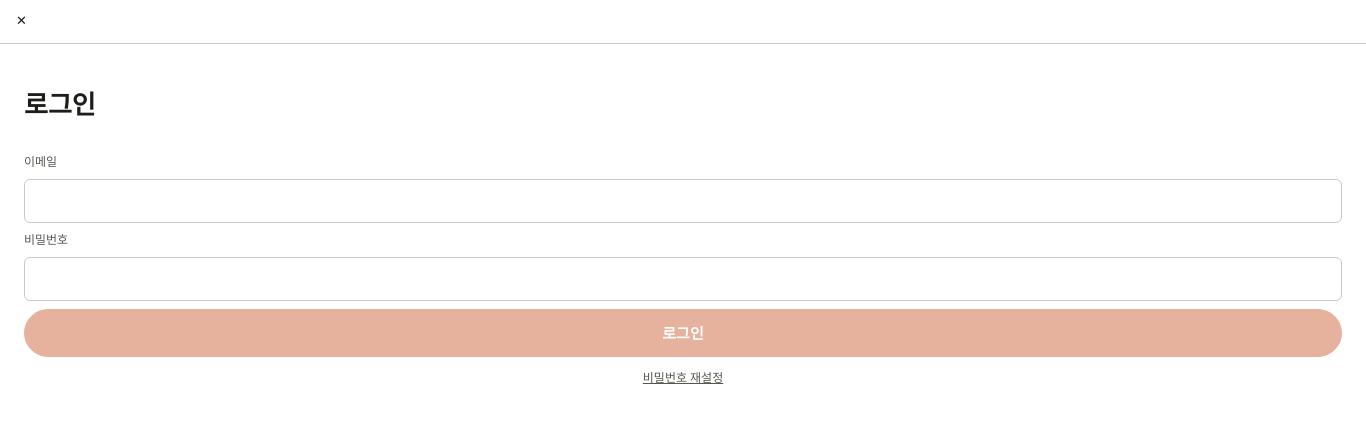
Scenario: LoginPage (A1) › 401 INVALID_CREDENTIALS면 명세 문구를 alert로 보이고 입력값·URL을 유지한다
Type "a@b.c" into the field labelled "이메일" at (683, 201), box x1=24 y1=179 x2=1342 y2=223
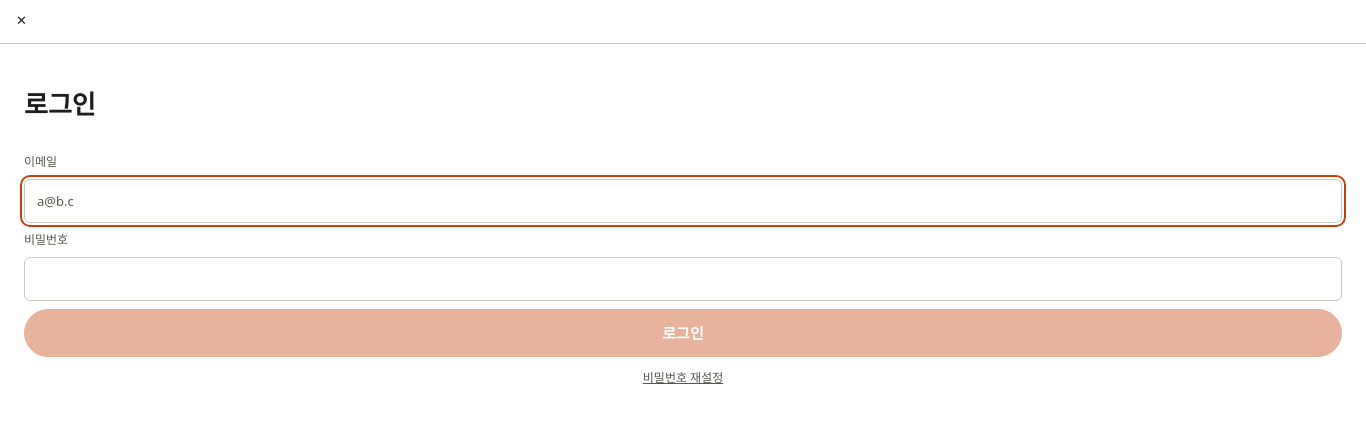
Type "pw" into the password field labelled "비밀번호" at (683, 279), box x1=24 y1=257 x2=1342 y2=301
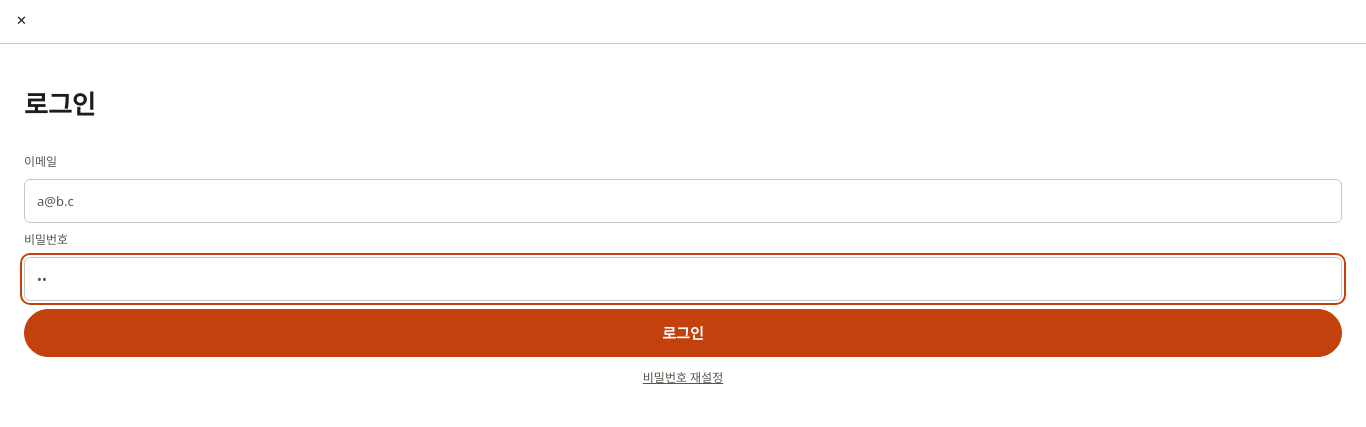
Click the button "로그인" at (683, 333), box x1=24 y1=309 x2=1342 y2=357
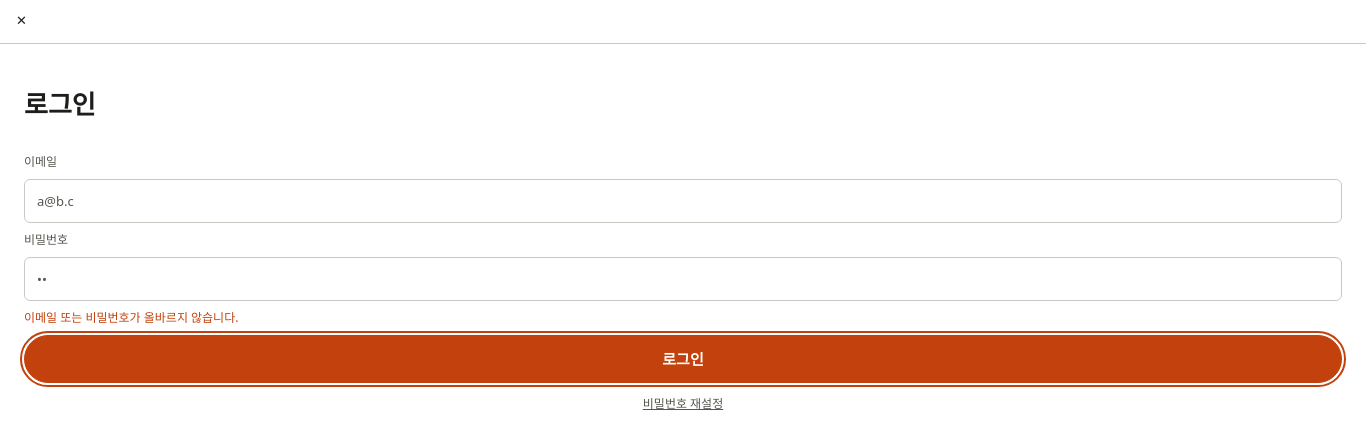
expect the message reads "이메일 또는 비밀번호가 올바르지 않습니다.": met, box x1=24 y1=309 x2=238 y2=326
